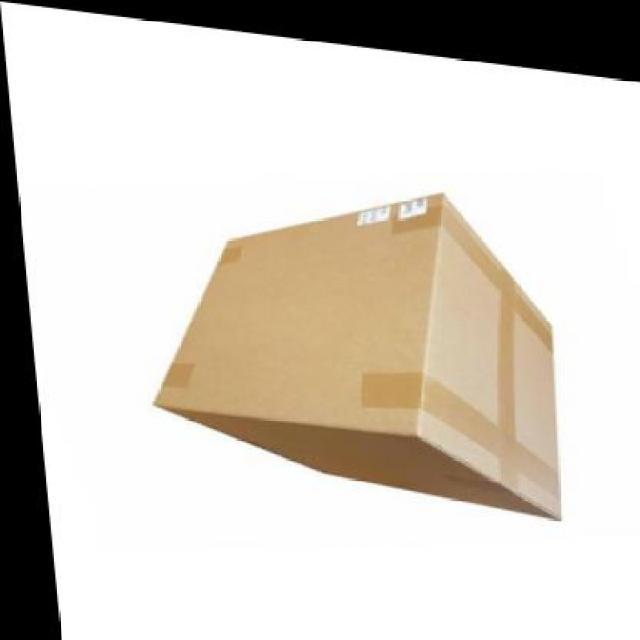box: (122, 154, 558, 507)
